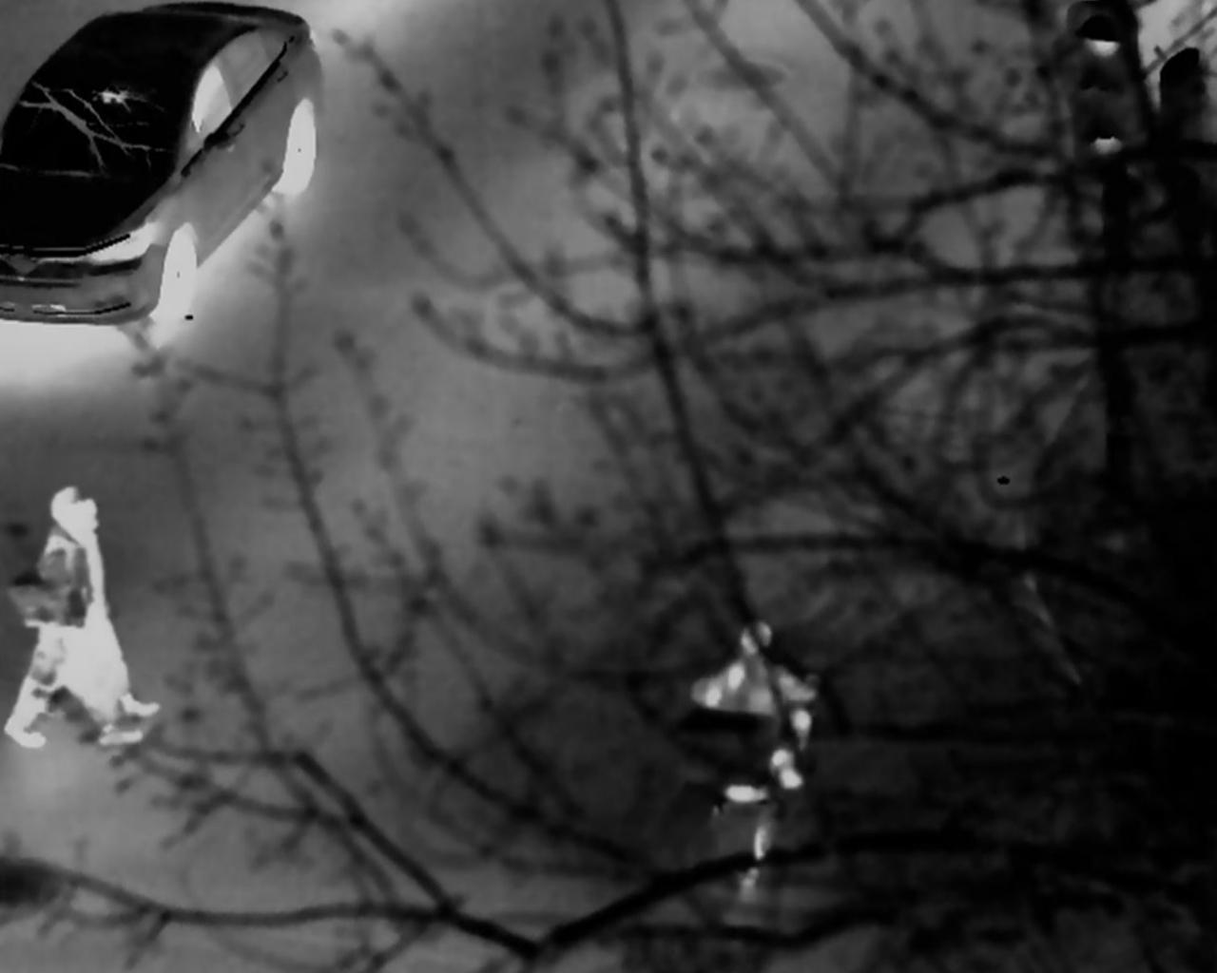person: (692, 607, 819, 847), (33, 485, 142, 750)
